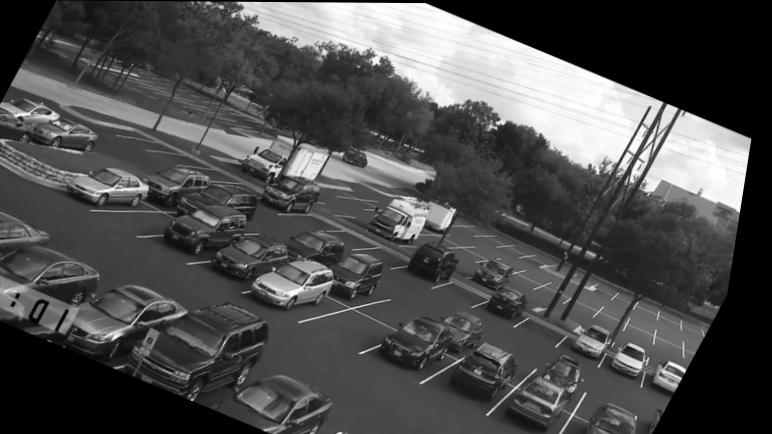empty: (309, 304, 404, 350), (99, 207, 181, 239), (521, 313, 579, 349), (602, 376, 653, 410), (382, 293, 437, 321), (508, 336, 549, 367), (126, 133, 189, 153), (334, 225, 385, 249), (445, 281, 495, 305), (289, 211, 344, 229), (372, 241, 415, 263), (631, 322, 665, 346), (571, 298, 611, 318), (539, 284, 580, 303), (555, 277, 591, 297), (662, 334, 693, 357), (603, 311, 637, 331), (156, 153, 210, 165), (253, 217, 293, 233), (456, 246, 493, 263), (609, 301, 640, 321), (348, 196, 392, 210), (638, 311, 667, 332), (618, 290, 650, 309), (202, 167, 245, 181), (530, 265, 564, 282), (583, 290, 615, 308), (666, 324, 694, 344), (600, 281, 630, 299), (520, 272, 552, 288), (477, 240, 509, 256), (645, 298, 669, 319), (506, 254, 539, 269), (665, 347, 695, 363), (452, 230, 485, 244), (531, 252, 566, 265), (429, 233, 466, 245), (461, 255, 484, 274), (668, 309, 691, 326), (506, 243, 538, 254), (693, 320, 712, 338), (532, 290, 551, 306), (464, 224, 494, 234), (486, 234, 515, 244), (695, 337, 712, 349), (695, 347, 707, 361)
occupied: (124, 301, 278, 400), (52, 283, 201, 356), (219, 368, 360, 434), (0, 246, 107, 309), (258, 257, 343, 315), (454, 341, 530, 400), (170, 204, 254, 256), (516, 370, 587, 430), (386, 314, 462, 368), (214, 232, 295, 282), (71, 168, 155, 207), (374, 197, 436, 242), (410, 241, 468, 287), (266, 171, 326, 215), (0, 205, 56, 251), (151, 166, 215, 206), (294, 229, 360, 267), (35, 116, 103, 152), (340, 254, 392, 300), (194, 182, 264, 215), (595, 400, 654, 434), (454, 309, 495, 354), (494, 285, 538, 320), (481, 259, 522, 291), (662, 358, 698, 394), (0, 108, 38, 142), (582, 325, 621, 357), (622, 343, 656, 377), (560, 355, 592, 386)
